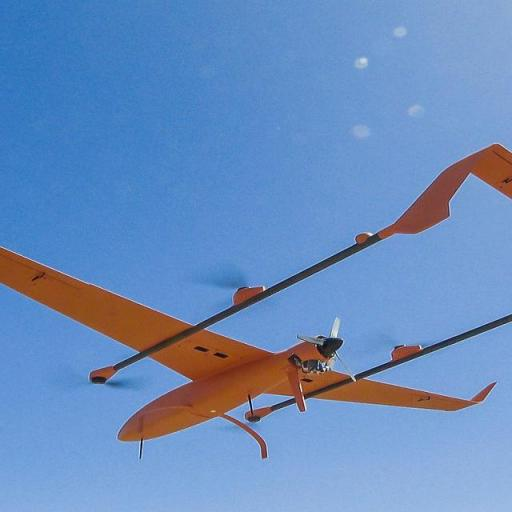uav: (7, 140, 512, 452)
